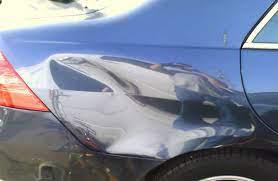quaterpanel-dent: (44, 16, 258, 178)
